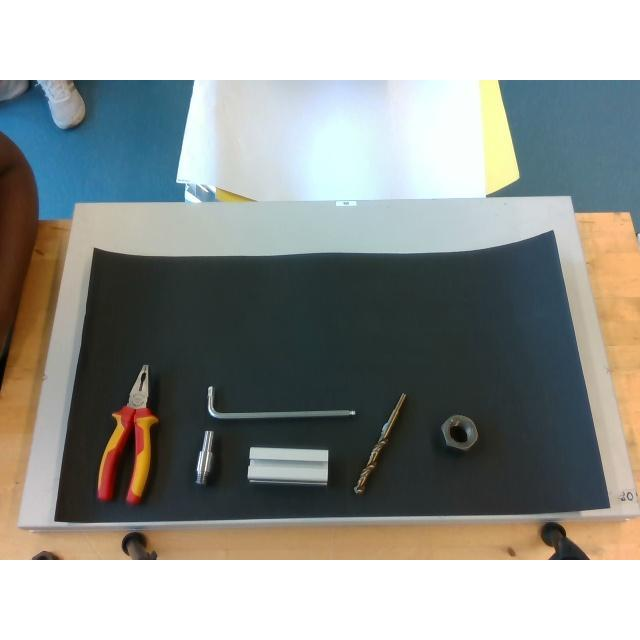AllenKey: (207, 386, 355, 418)
Axis2: (194, 430, 213, 484)
Drill: (354, 393, 406, 495)
M30: (442, 414, 478, 450)
S40_40_G: (248, 448, 328, 484)
